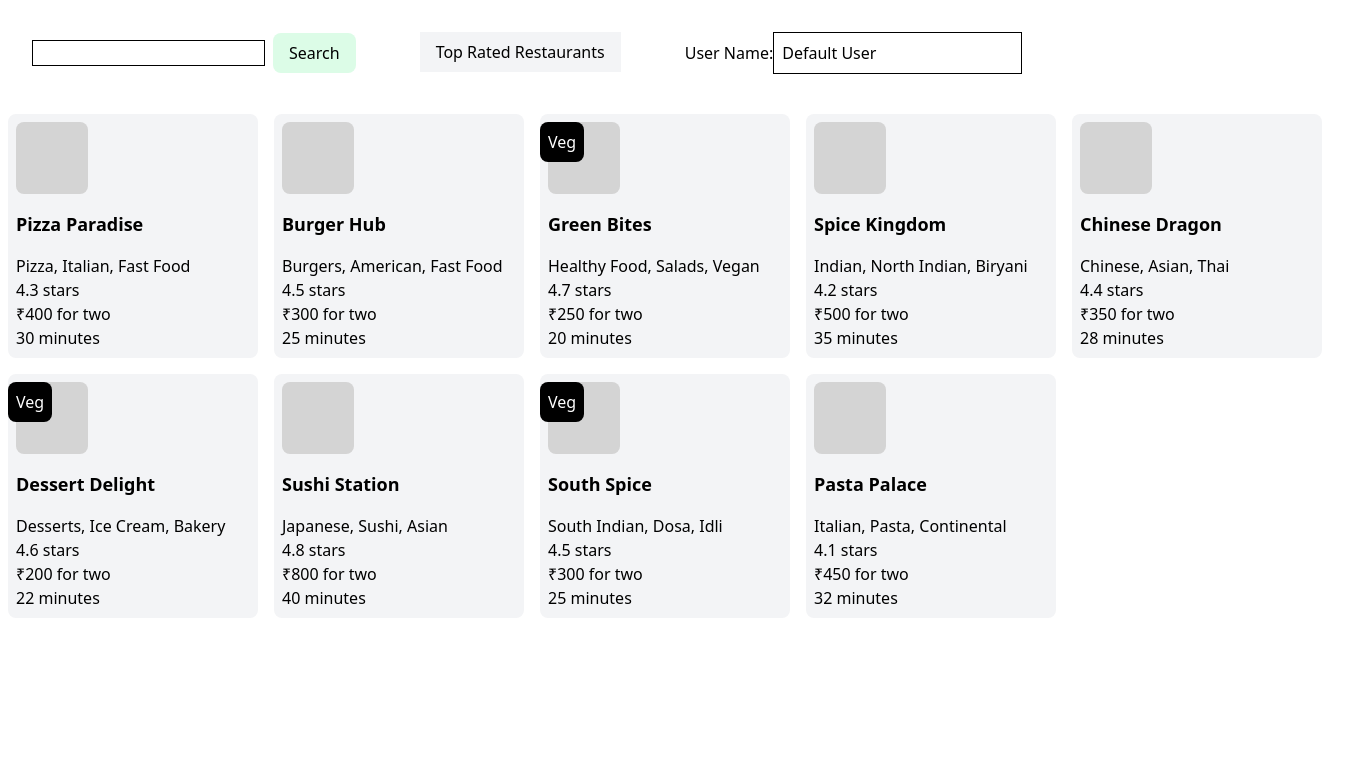
Test: Should render the Body componnet with Search
The width and height of the screenshot is (1366, 768).
Step 1. Type "pizza" into the field with test id "searchInput" → (148,53), box left=32, top=40, right=265, bottom=66
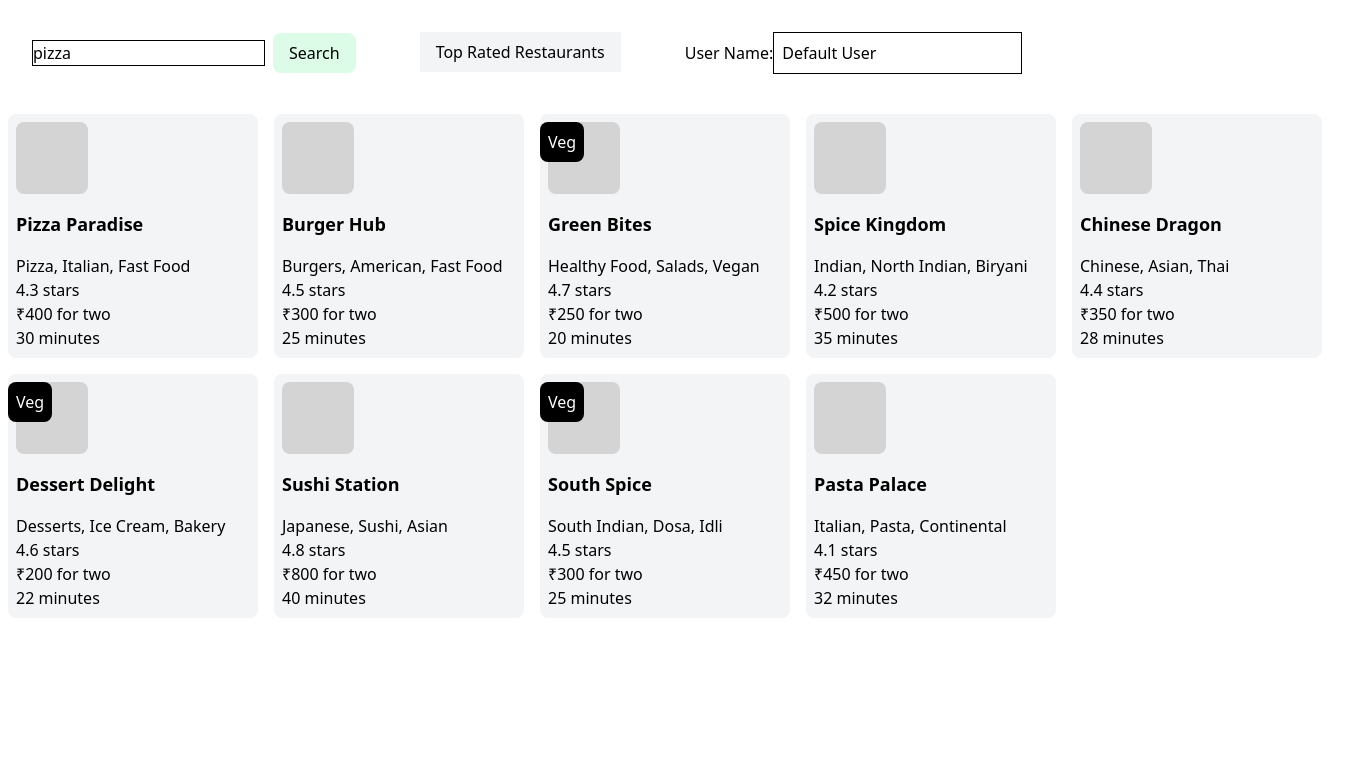
Step 2. Click the button "Search" → (314,53), box left=273, top=33, right=356, bottom=73
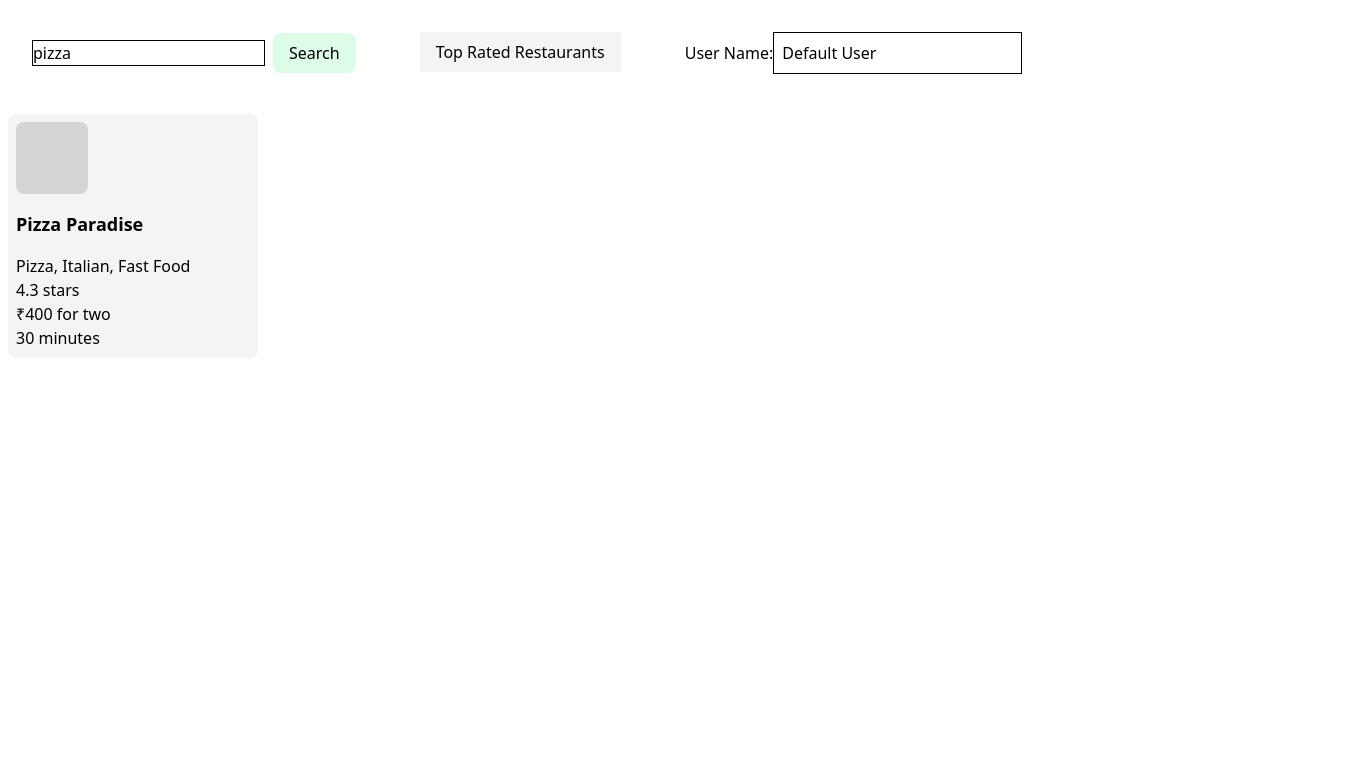
Expected: the number of elements with test id "restaurantCard" is 1, left=8, top=114, right=258, bottom=358
